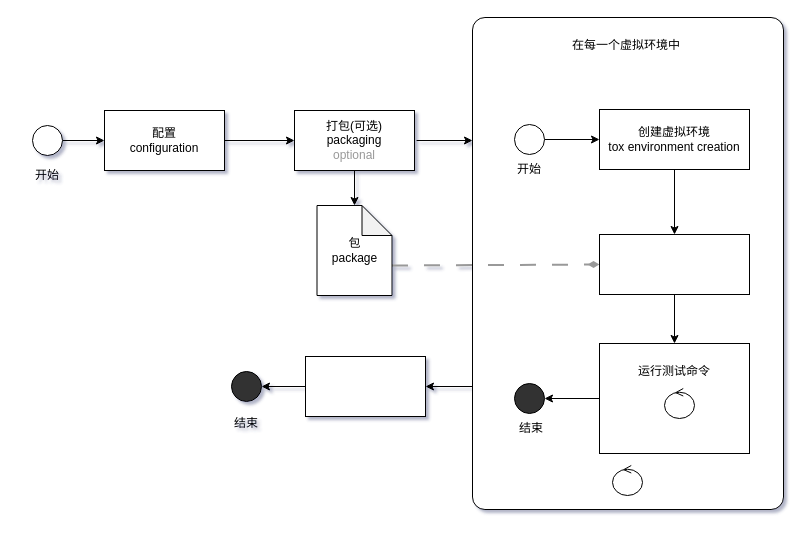
Image size: 807x533. Some labels were removed from this diagram. Here are the shapes that lost their labels. From the top down, the box of each, then its label:
(598, 234, 750, 294): 安装待测包和依赖 install package/dependencies optional
(304, 356, 426, 416): 报告
